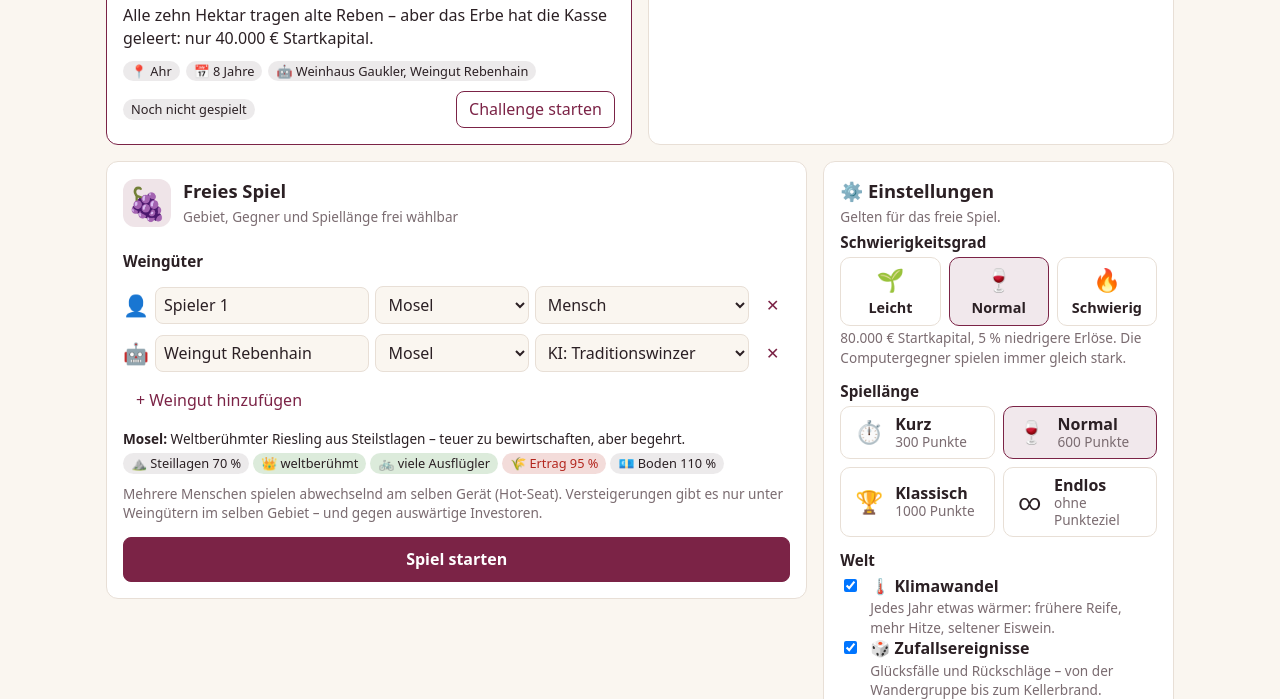
Test: Bedienung › das Endlosspiel lässt sich auf eine Anzahl Jahre begrenzen
(page scrolled)
Click the radio button named "length" at (1080, 502), box 1003,467 -> 1157,537
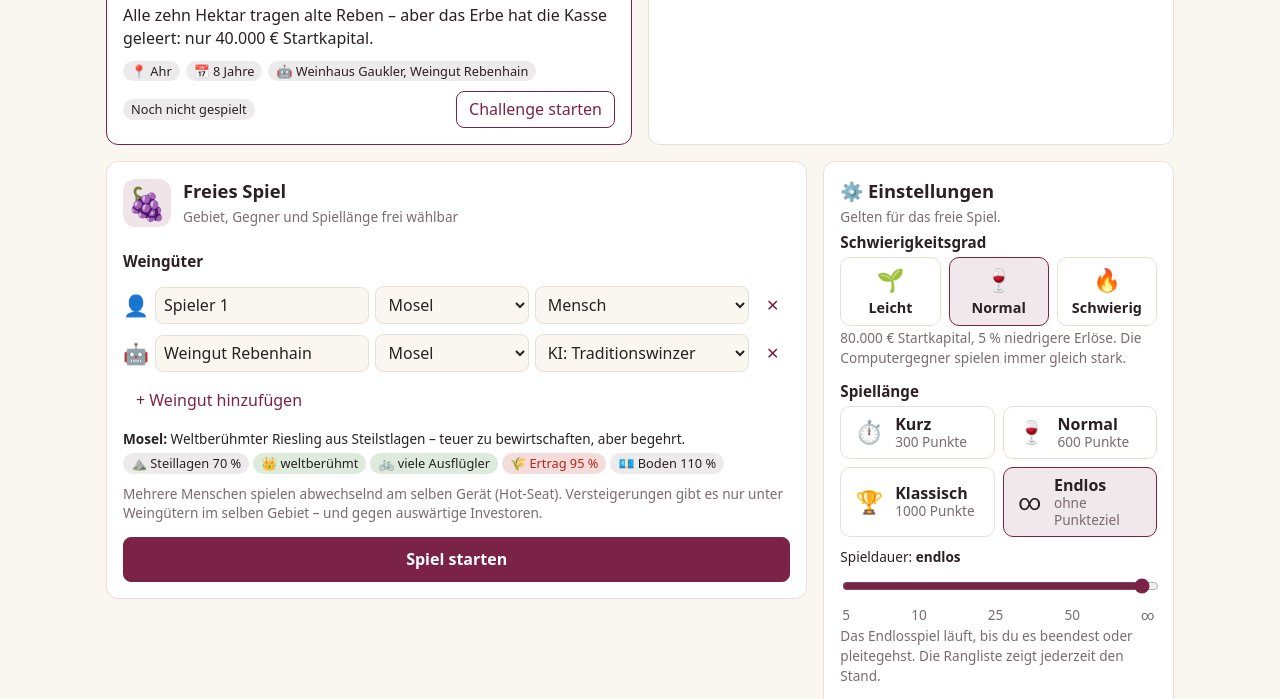
Set the slider labelled "Spieldauer: endlos 5 10 25 50 ∞" to "2" at (1001, 586), box 842,571 -> 1159,601
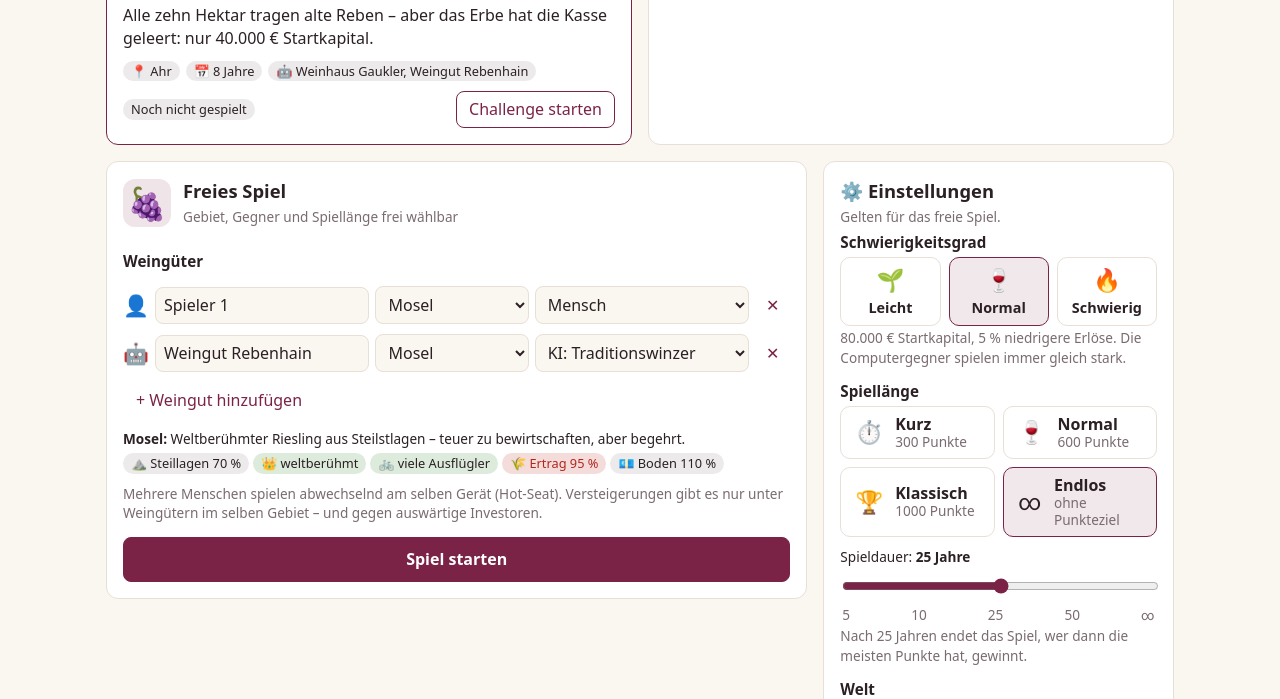
Result: the text "25 Jahre" is shown at 916,547 -> 970,566
Click the button "Spiel starten" at (457, 560), box 123,537 -> 790,582
(page scrolled)
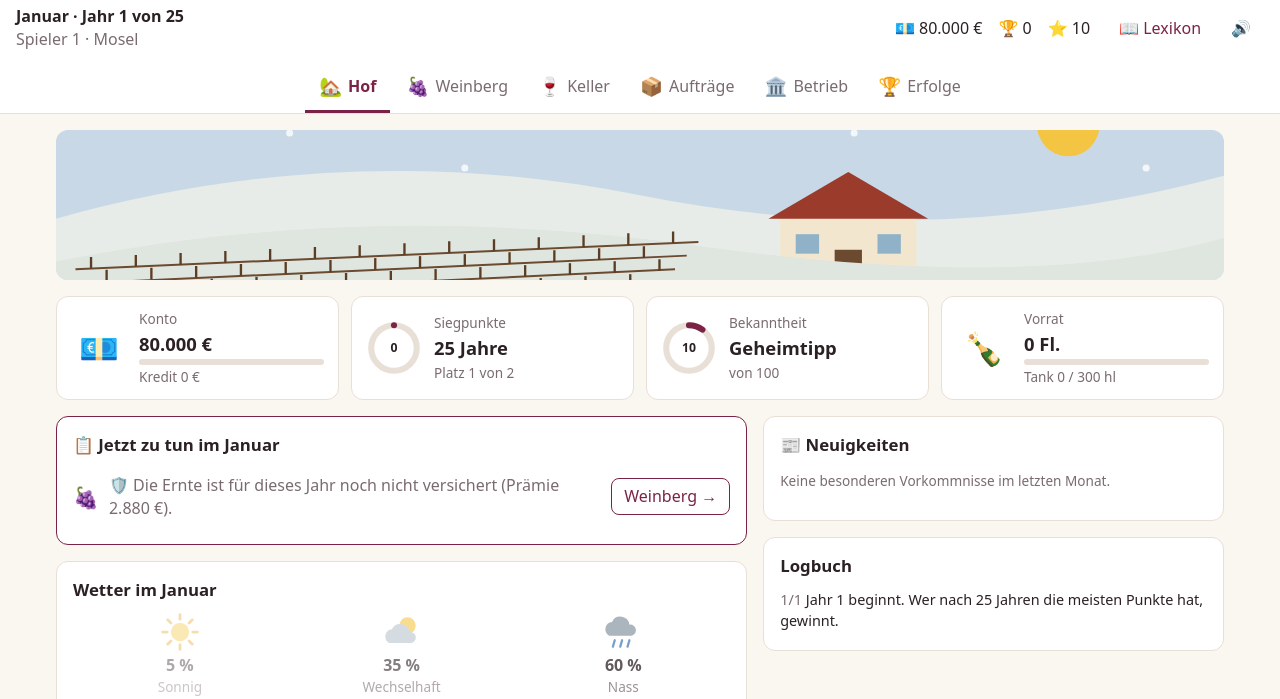
Result: the text "Jahr 1 von 25" is shown at 16,5 -> 184,27
